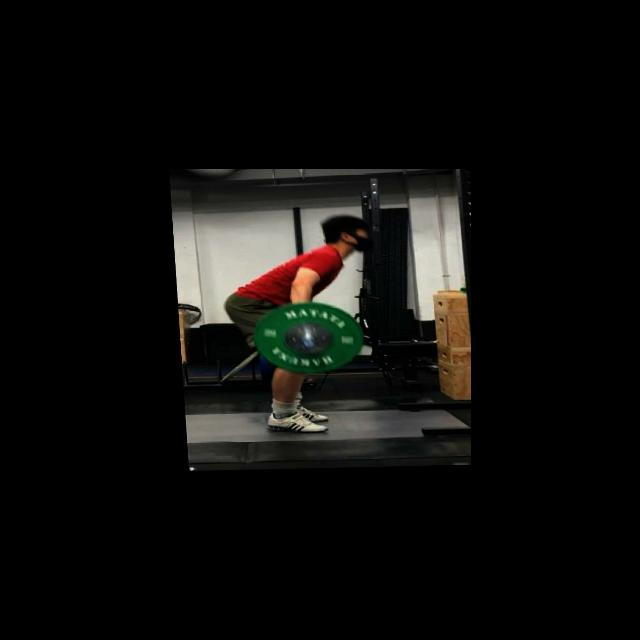barbell: (247, 299, 366, 378)
